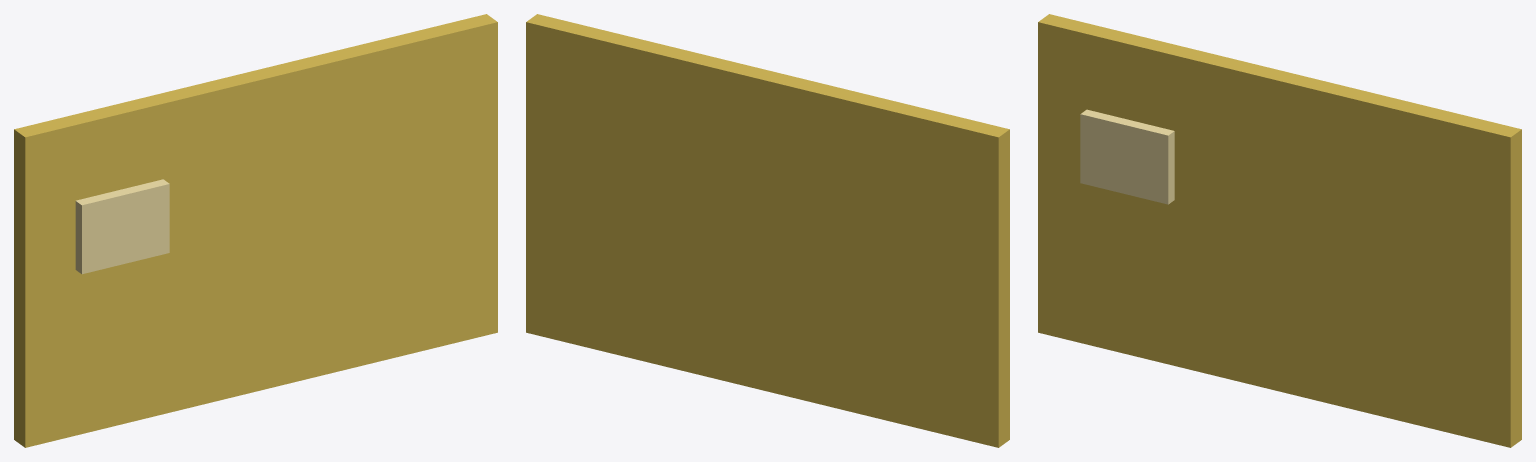
File: ar-card.glb
3 renders of one model, left to right at view 1: azimuth 30°, elevation 25°; view 2: azimuth 150°, elevation 25°; view 3: azimuth 330°, elevation 25°, orthographic.
Size of the model in its own units: 0.86 by 0.54 by 0.0575.
